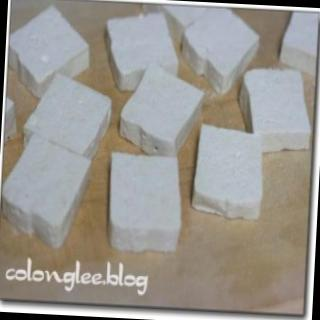Tahu: (1, 6, 113, 250), (107, 14, 205, 253), (192, 69, 312, 222), (182, 9, 260, 96)
